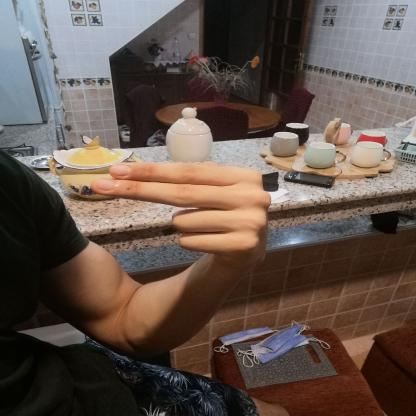AYN: (78, 141, 289, 279)
